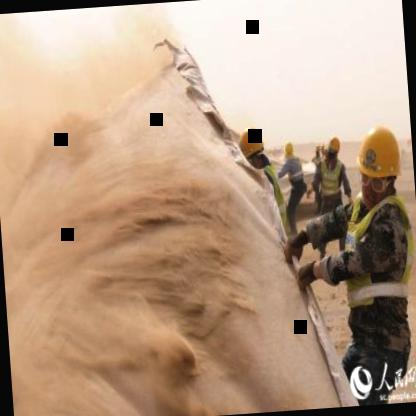helmet: (352, 118, 408, 209), (238, 125, 270, 173), (323, 132, 342, 164)
